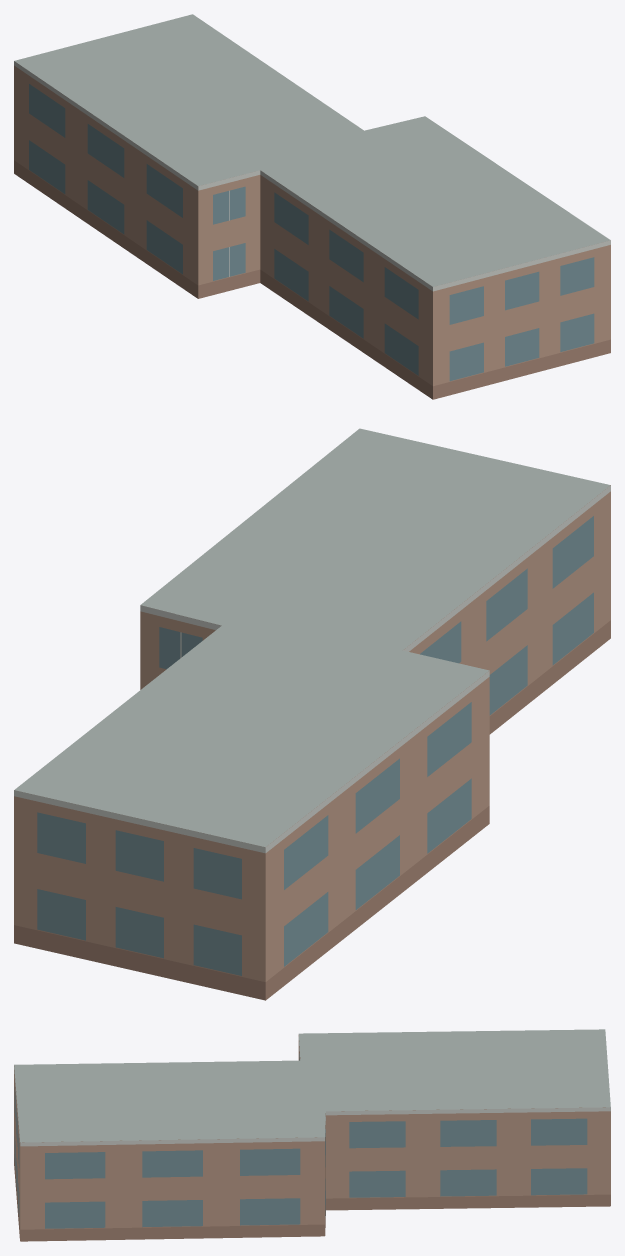
The model's file is survey-upis-32625853.glb.
The picture shows the model from 3 angles, top to bottom: view 1: azimuth 30°, elevation 25°; view 2: azimuth 150°, elevation 25°; view 3: azimuth 270°, elevation 25°; orthographic projection. The views are drawn at different scales.
Visible parts, largest first — view 1: survey-upis-32625853.tmp; view 2: survey-upis-32625853.tmp; view 3: survey-upis-32625853.tmp.
Boxes of the visible parts, x1,y1,x2,y2 form: survey-upis-32625853.tmp: (14,14,610,399); survey-upis-32625853.tmp: (14,428,610,1000); survey-upis-32625853.tmp: (14,1029,610,1241).
Bounding box in the file's own units: 14.95 × 6.1 × 33.32.
